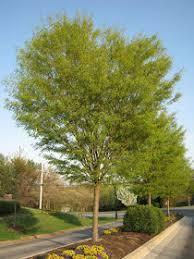tree: (5, 14, 183, 244)
